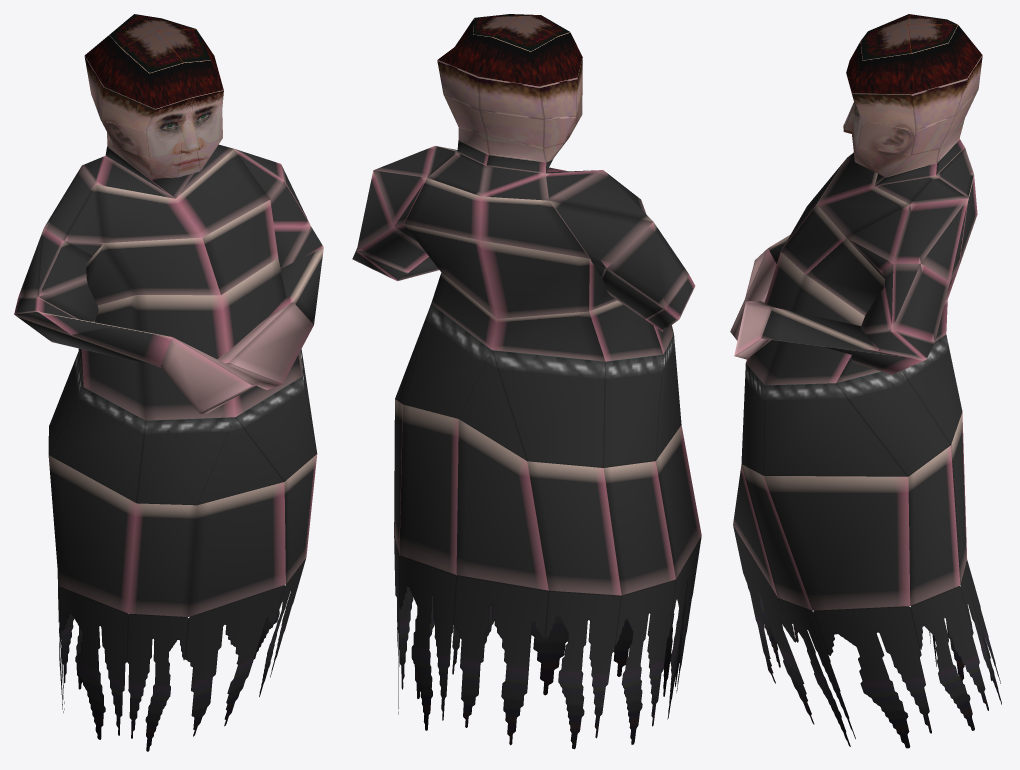
3 views of the same model, side by side, from view 1: azimuth 30°, elevation 25°; view 2: azimuth 150°, elevation 25°; view 3: azimuth 270°, elevation 25° (orthographic). The views are drawn at different scales.
Visible parts, largest first — view 1: T1L1M001_15; view 2: T1L1M001_15; view 3: T1L1M001_15.
Boxes of the visible parts, box(x1,y1,x2,y2) form: T1L1M001_15: box(14, 14, 323, 751); T1L1M001_15: box(352, 14, 701, 749); T1L1M001_15: box(730, 14, 1001, 748).
Size of the model in its own units: 0.9578 by 2.06 by 0.7437.
Materials: 1 (1 with a texture image).
